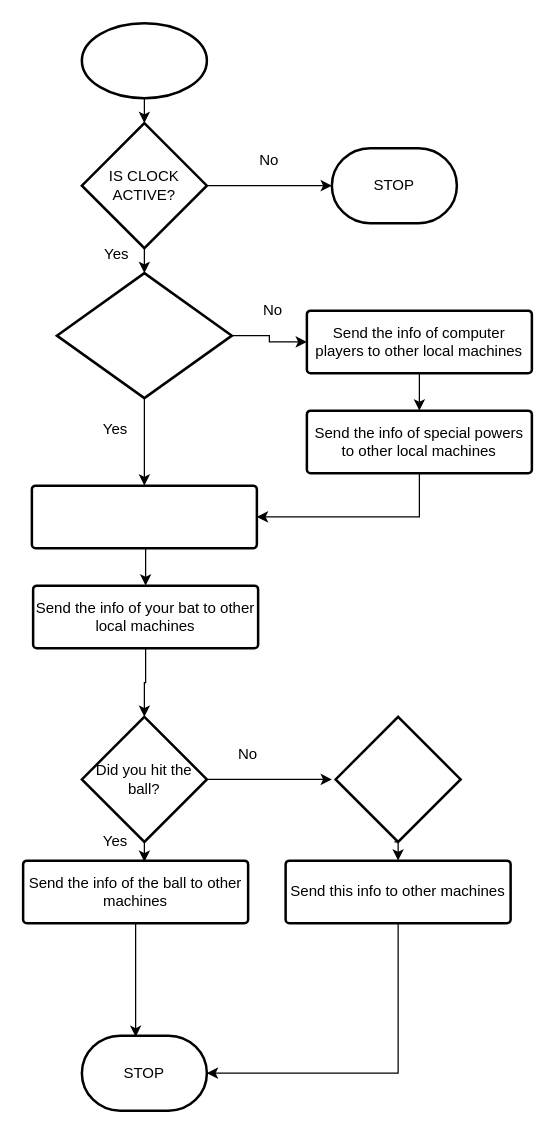
The diagram is 554 pixels wide and 1133 high, and some of its shapes have lost their labels. Here are the shapes that lost their labels. From the top down, the centre of each, then its label:
At (144,60): "START".
At (143,335): "IS THE LOCAL MACHINE A CONTROLLER?".
At (144,516): "Send the connection status message to other local machines".
At (397,778): "Did you just lose the ball?".
